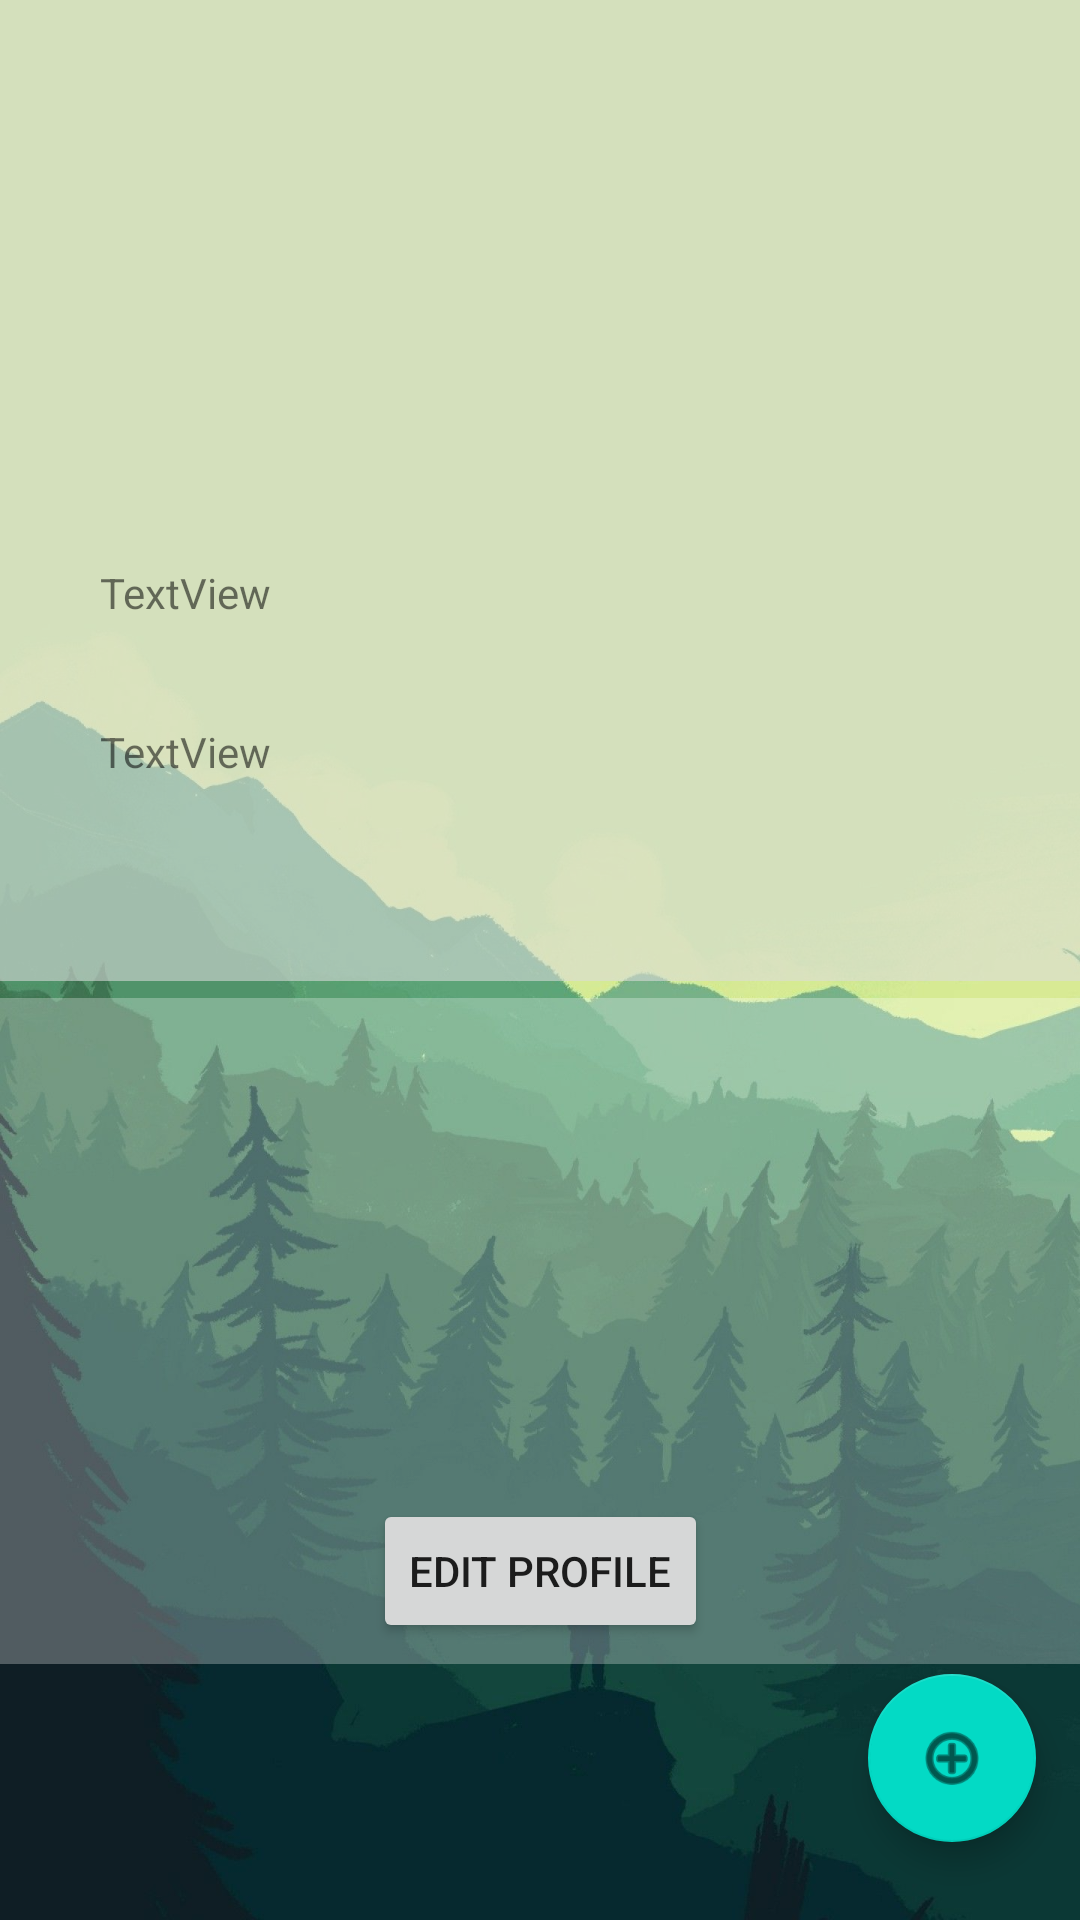

Named icons in this screenshot (1080x1920) and their centers, point (x, y):
Add button for events: point (952, 1758)
